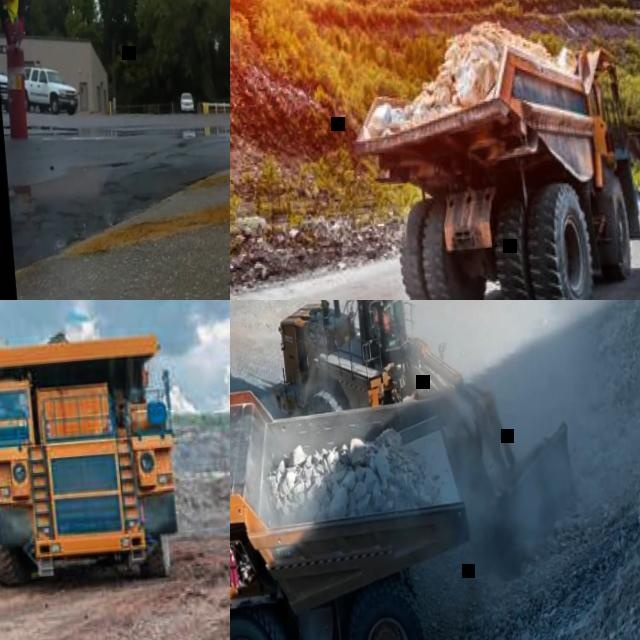Person: (0, 0, 41, 44)
machinery: (255, 300, 589, 594), (347, 26, 640, 300), (230, 368, 489, 640), (0, 319, 184, 587)
vehicle: (23, 60, 81, 118), (0, 70, 10, 111), (177, 91, 195, 112)
